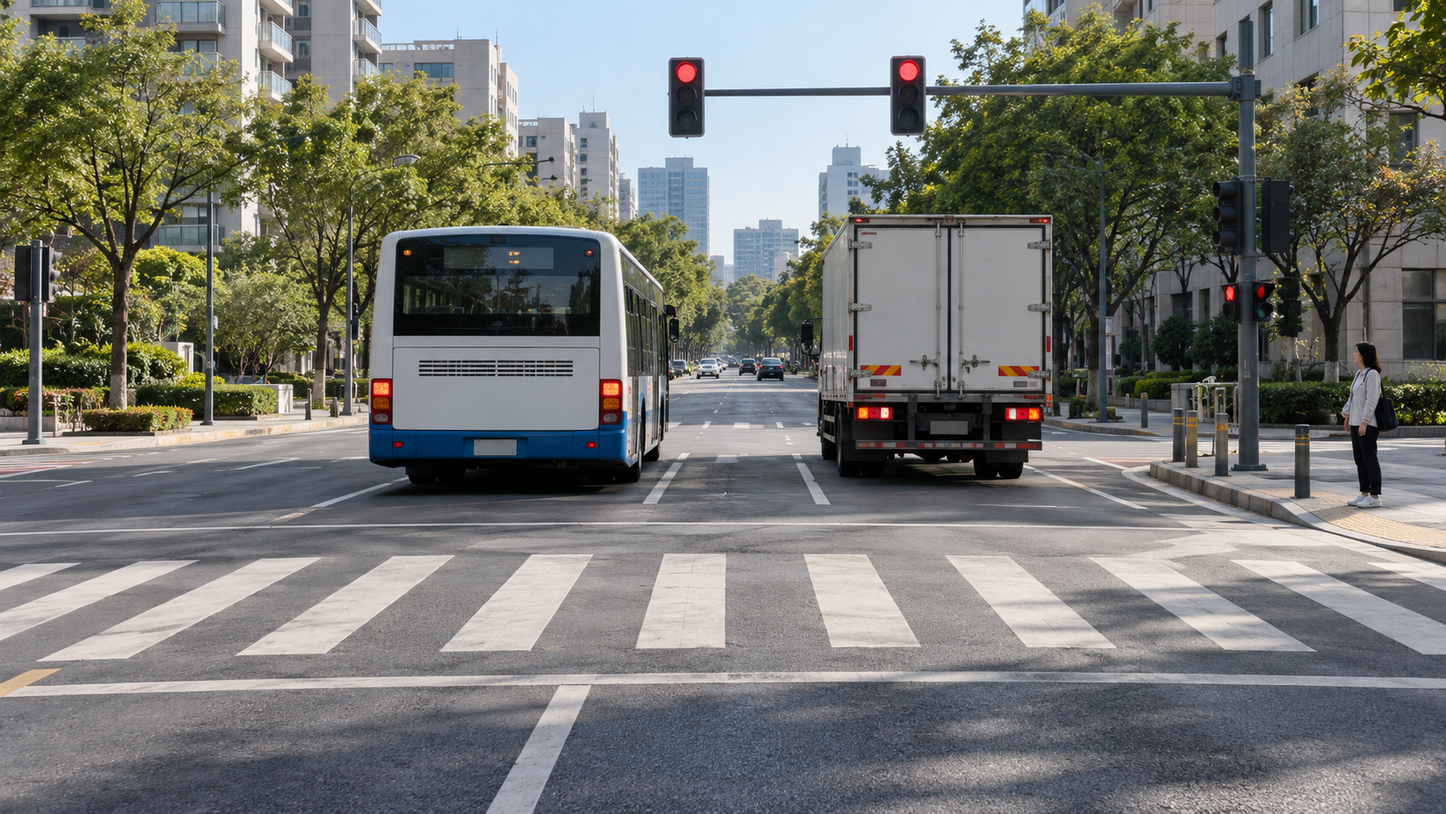bus: (368, 224, 680, 492)
person: (1362, 337, 1417, 509)
traffic_light: (1213, 236, 1284, 324), (671, 56, 706, 142), (886, 56, 923, 137)
truck: (816, 215, 1053, 481)
zebra_crossing: (0, 526, 1446, 697), (674, 388, 986, 408)
